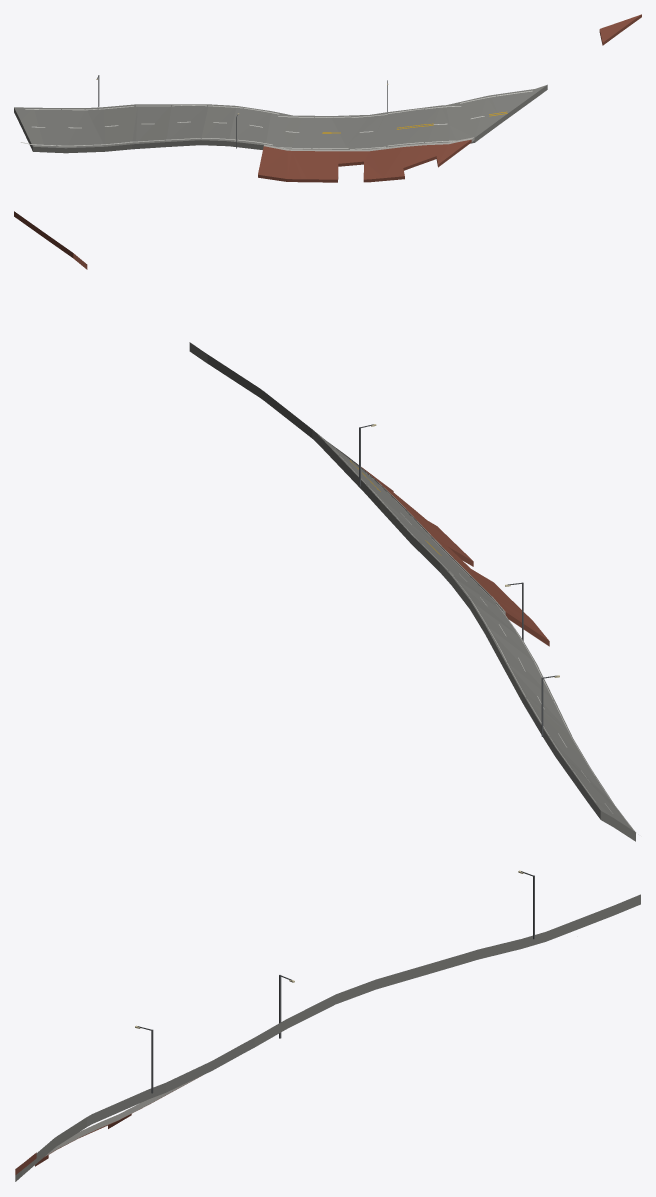
The model's file is 17-109426-59476.cc36dfc8.glb.
The picture shows the model from 3 angles, top to bottom: view 1: azimuth 30°, elevation 25°; view 2: azimuth 150°, elevation 25°; view 3: azimuth 270°, elevation 25°; orthographic projection. The views are drawn at different scales.
Size of the model in its own units: 119 by 29.23 by 67.36.
